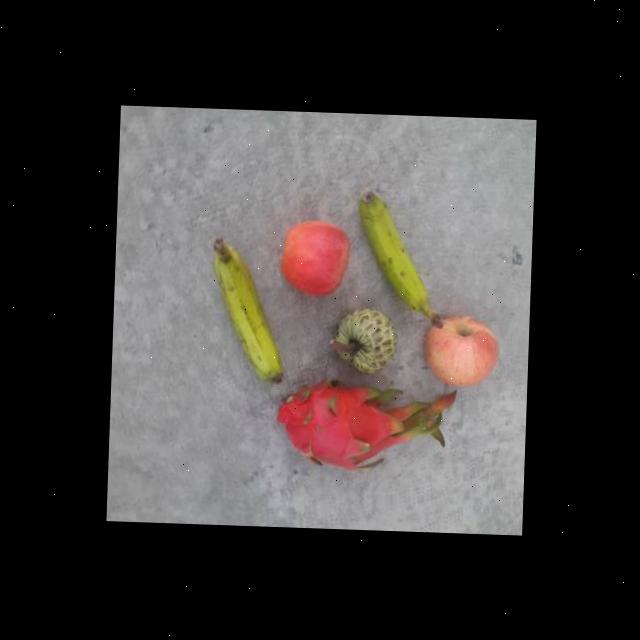Sakya fruit: (326, 304, 400, 376)
apple: (275, 217, 351, 300), (419, 314, 500, 390)
banana: (351, 188, 446, 332), (208, 236, 286, 384)
pitaya: (275, 374, 415, 474)
